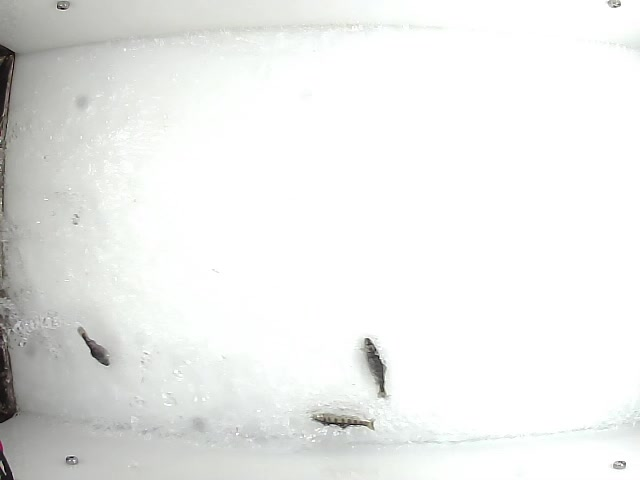fish: (361, 335, 389, 402), (308, 409, 376, 434), (76, 325, 114, 365)
